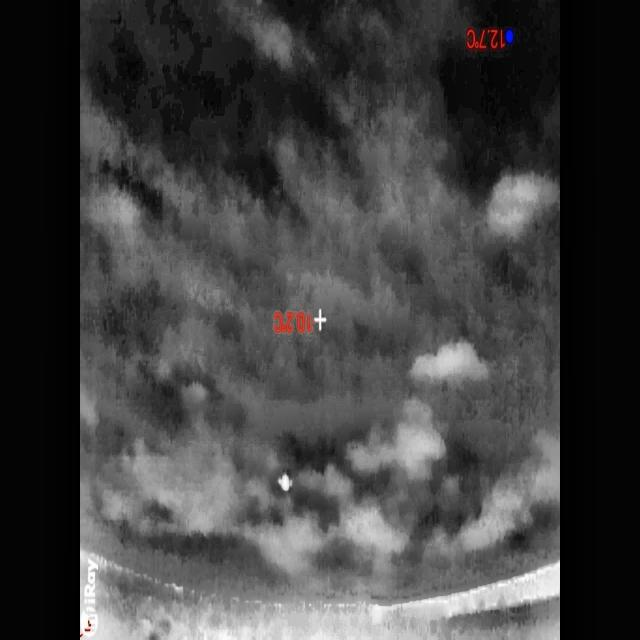drone: (278, 469, 293, 496)
